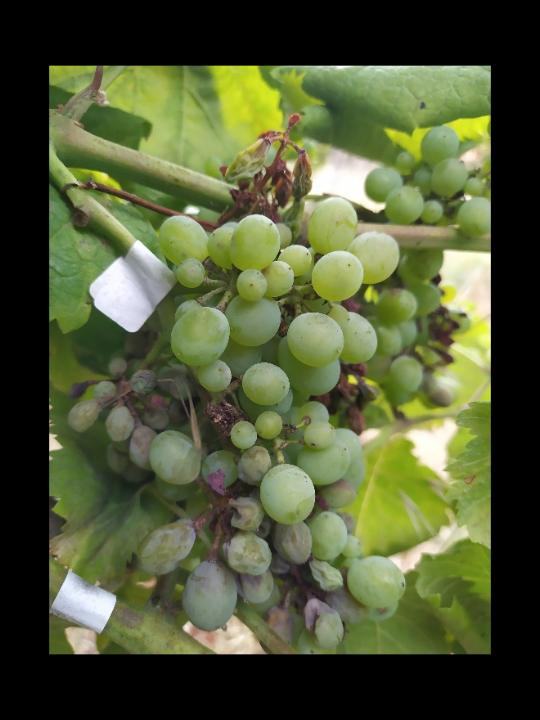grape: (66, 196, 412, 649)
